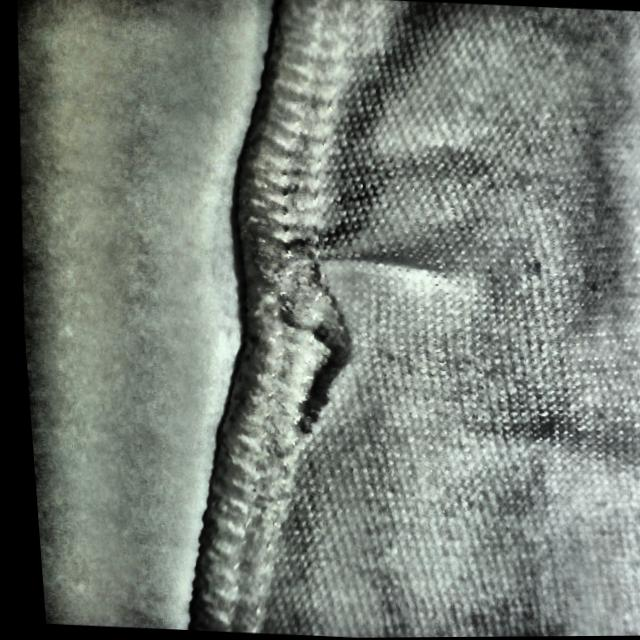seam: (219, 206, 446, 403)
